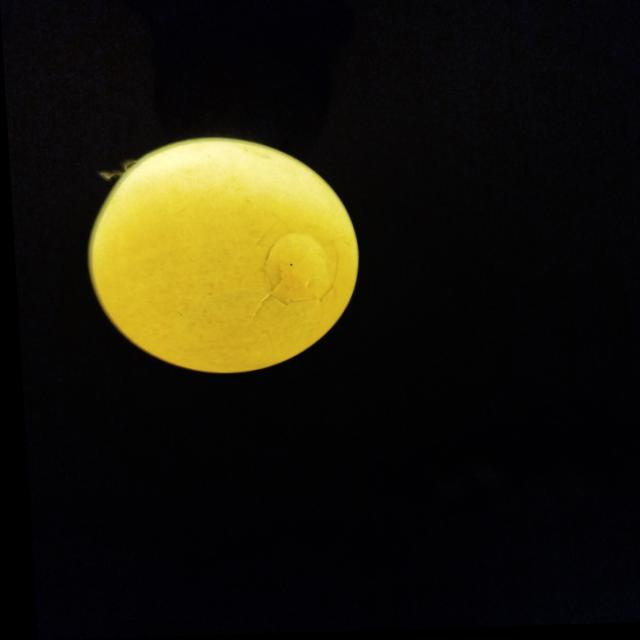Rachadura: (248, 215, 343, 321)
